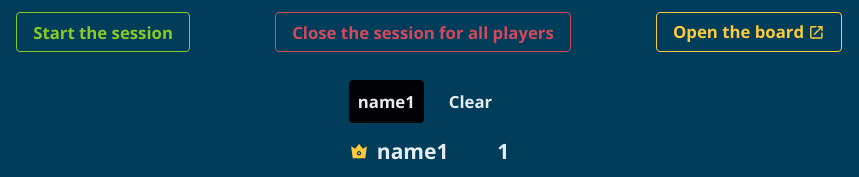
Test: <ManageSession /> › should clear a stuck lock via the Clear button without touching any score
Expected: the element with class "active-challenger-row" is shown, [349,80,509,123]
Click the button "Clear": (470, 102) [432,82,509,122]
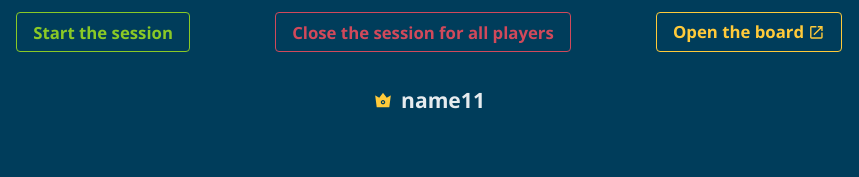
Expected: the element with class "active-challenger-row" is gone
